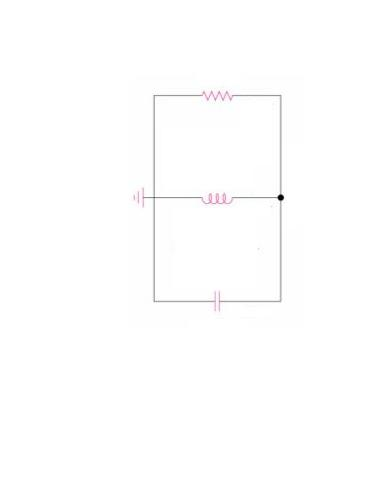resistor: (191, 76, 248, 110)
